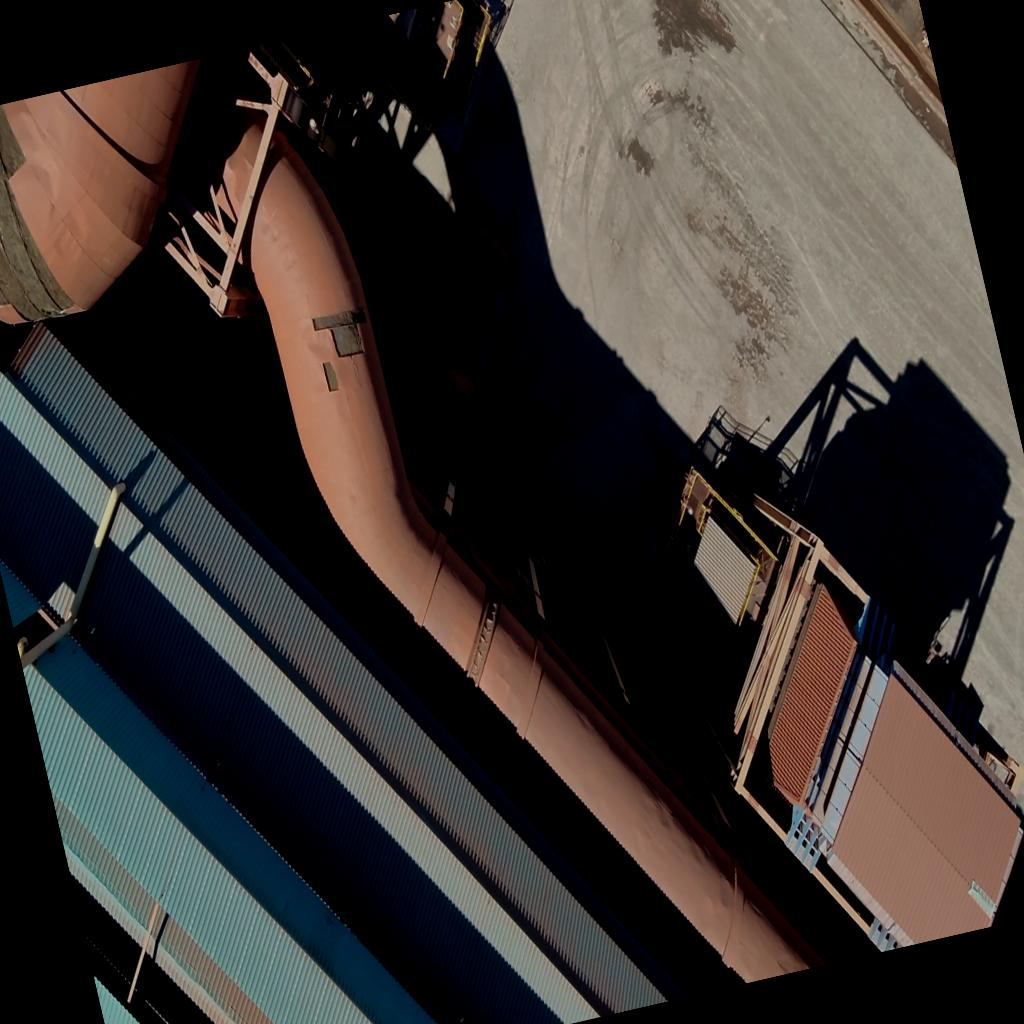Failures: (0, 98, 82, 343), (312, 304, 375, 366), (316, 358, 344, 395)
